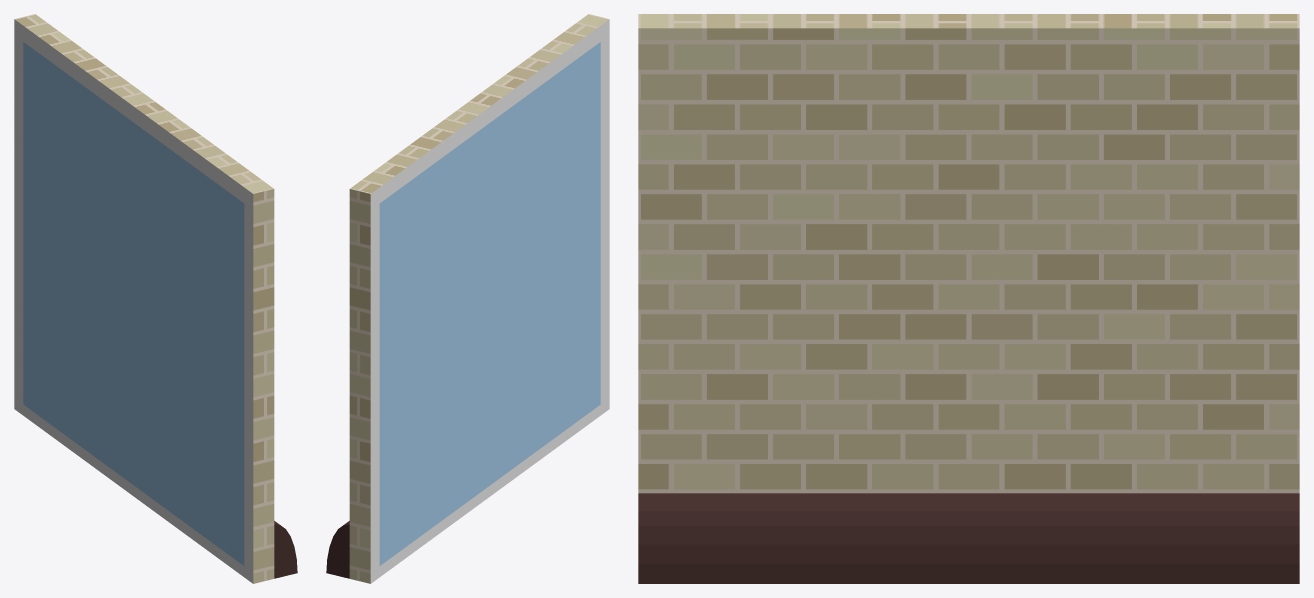
Rendered from Wall A.fbx.
3 renders of one model, left to right at view 1: azimuth 30°, elevation 25°; view 2: azimuth 150°, elevation 25°; view 3: azimuth 270°, elevation 25°, orthographic. The views are drawn at different scales.
Parts seen in each view (by area): view 1: Wall A; view 2: Wall A; view 3: Wall A.
Part boxes in pixels (x1,y1,x2,y2): Wall A: [14, 14, 297, 583]; Wall A: [326, 14, 609, 583]; Wall A: [638, 14, 1299, 583].
Size of the model in its own units: 85.83 by 721 by 800.
